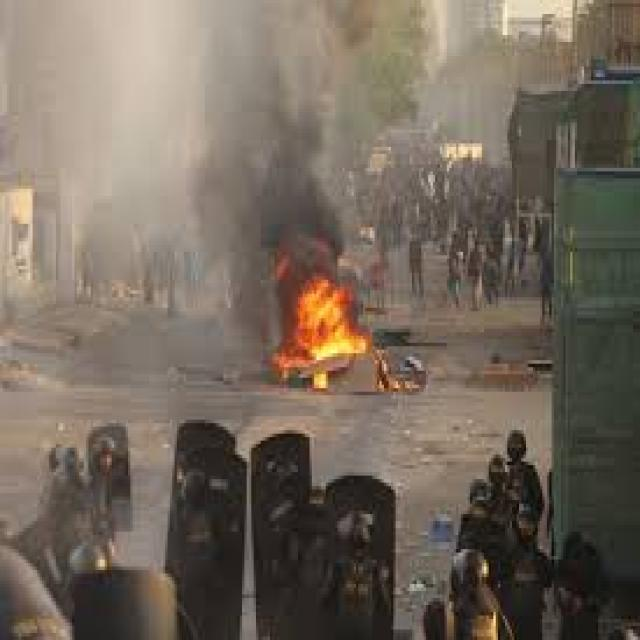Fire: (275, 280, 367, 388), (265, 235, 342, 279)
Smoke: (0, 0, 355, 233), (0, 236, 273, 364)
